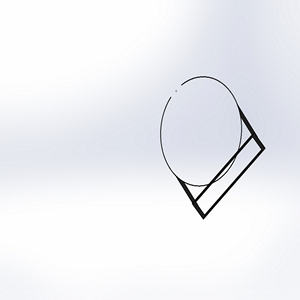circle: (157, 74, 266, 220)
